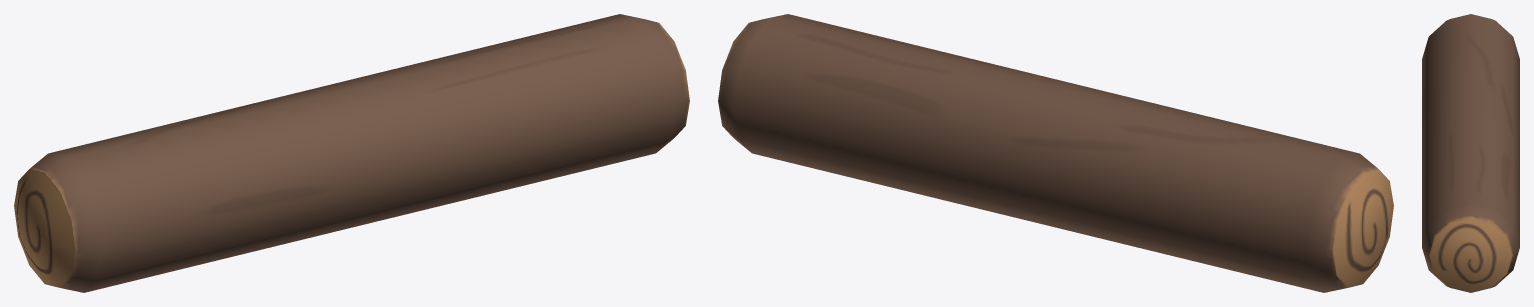
Rendered from FBX_Tronco.fbx.
The picture shows the model from 3 angles, left to right: view 1: azimuth 30°, elevation 25°; view 2: azimuth 150°, elevation 25°; view 3: azimuth 270°, elevation 25°; orthographic projection. The views are drawn at different scales.
Parts seen in each view (by area): view 1: pCylinder18; view 2: pCylinder18; view 3: pCylinder18.
Part boxes in pixels (x1,y1,x2,y2): pCylinder18: (14,14,689,292); pCylinder18: (718,14,1393,292); pCylinder18: (1422,14,1519,292).
Size of the model in its own units: 63.62 by 12.56 by 12.56.
